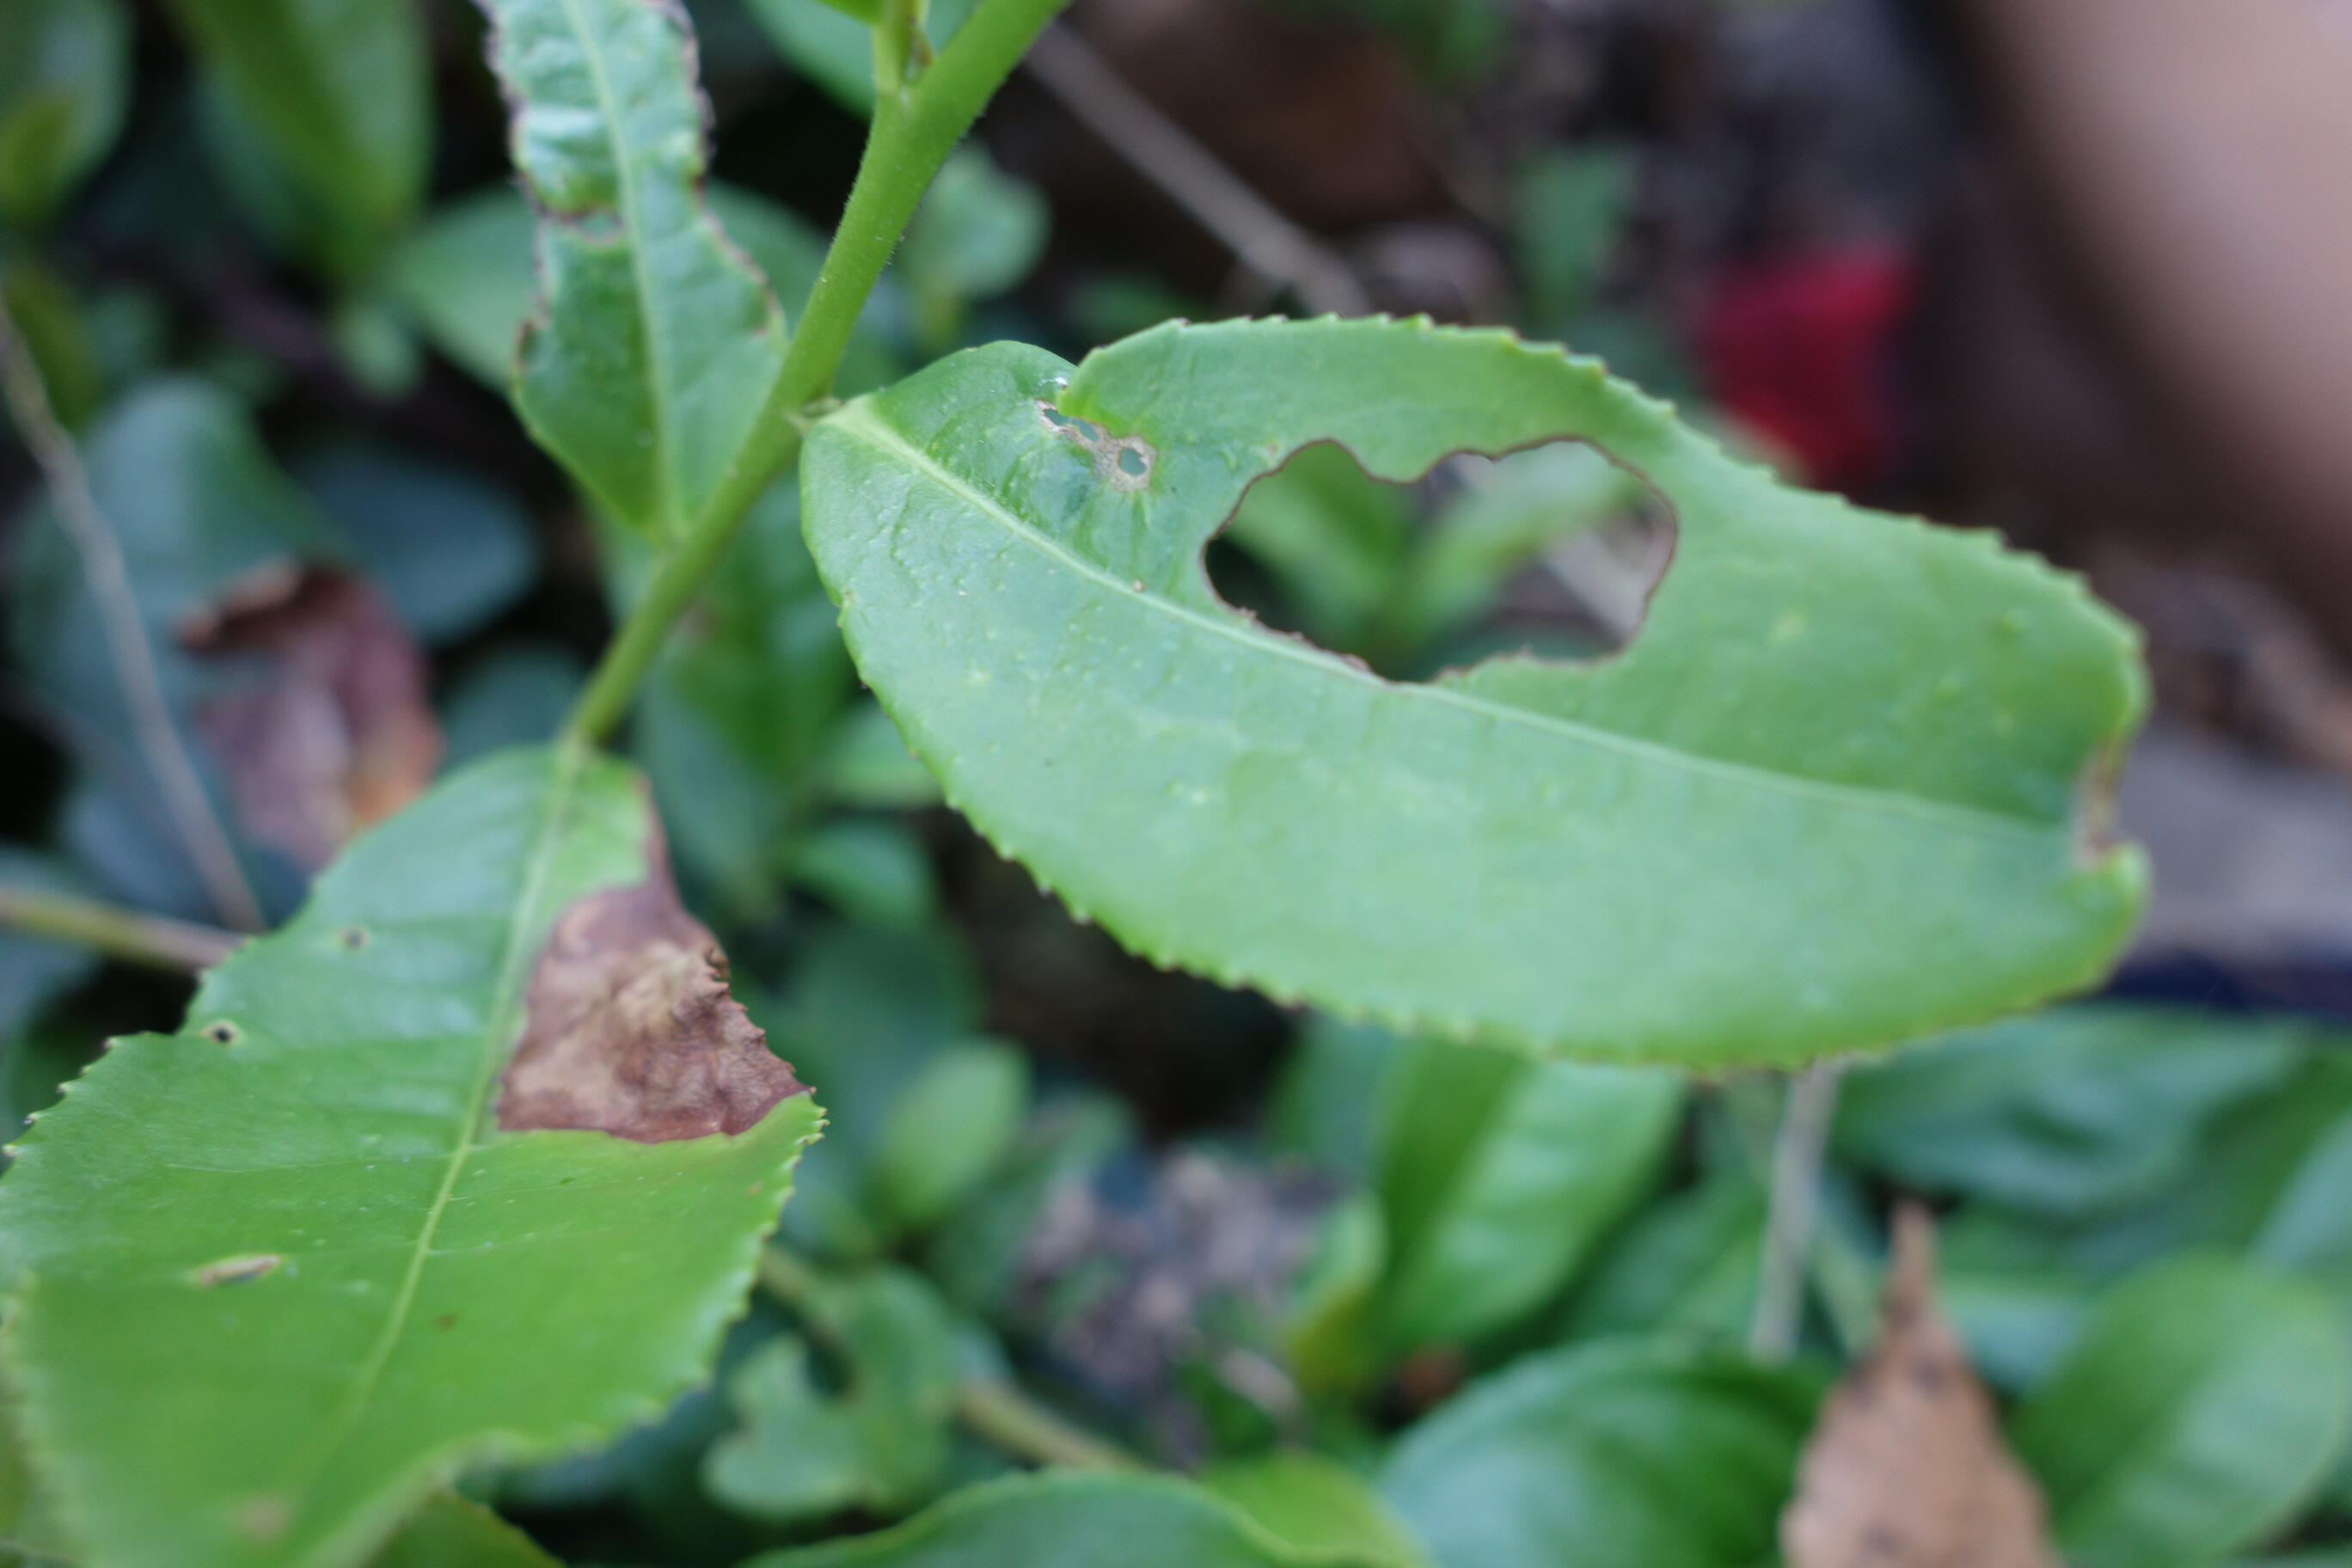chihuo_high: (796, 315, 2161, 1081), (472, 0, 786, 544)
tanju_high: (0, 738, 835, 1564)
